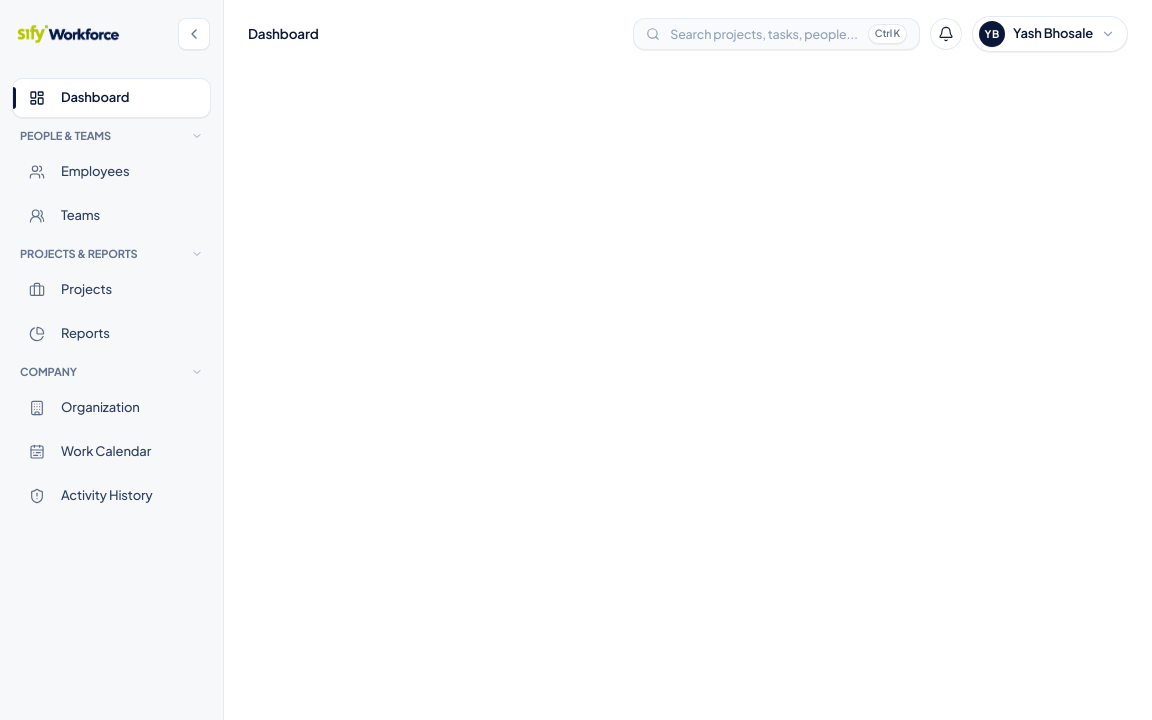
Sidebar and Header Refactor — Sify Workforce Platform › Sidebar Collapse and Expand Feature › toggles collapsible navigation sections in expanded mode
Note: Click on "COMPANY" section button
Click the button "COMPANY": (112, 372) [12,364,211,380]
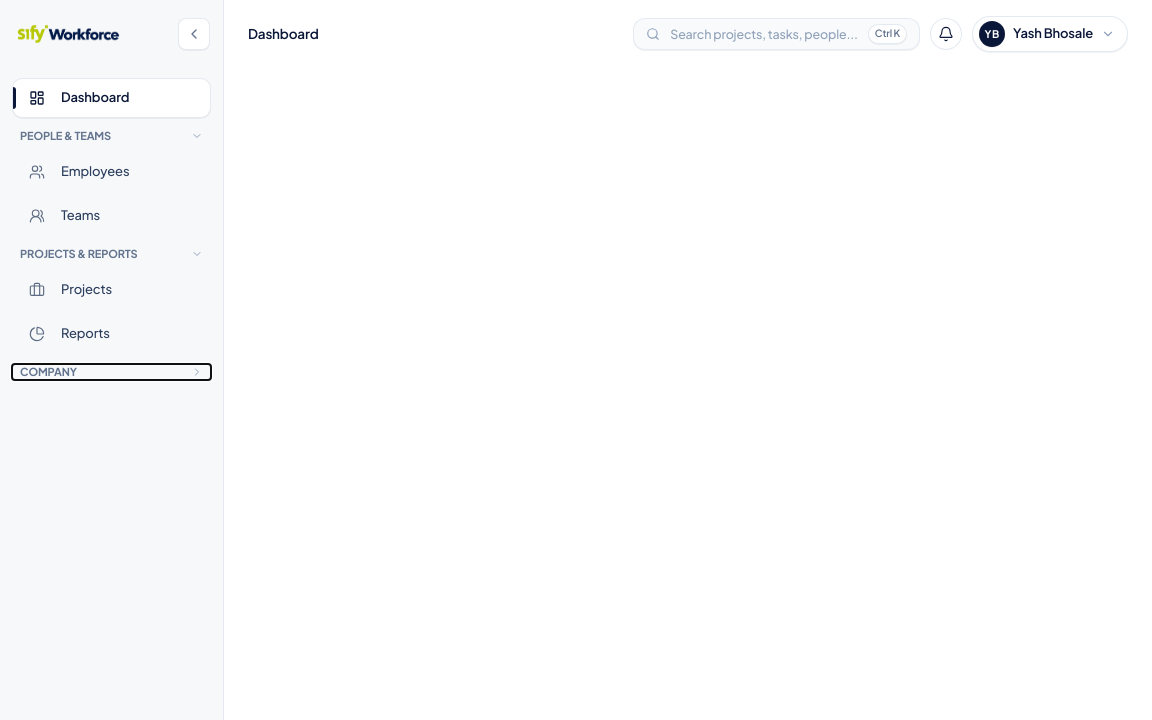
Expected: the link "Organization" is gone
Expected: the link "Work Calendar" is gone
Note: Click again to re-expand
Click the button "COMPANY": (112, 372) [12,364,211,380]
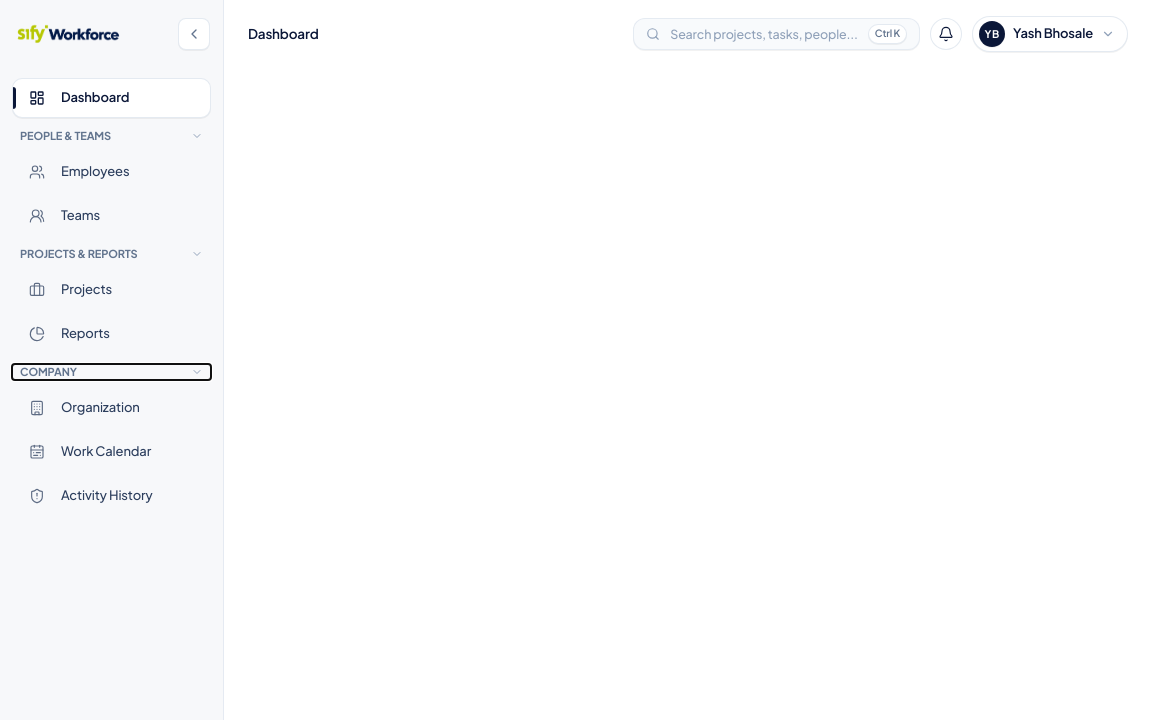
Expected: the link "Organization" is shown, [29,399,140,416]
Expected: the link "Work Calendar" is shown, [29,443,151,460]
